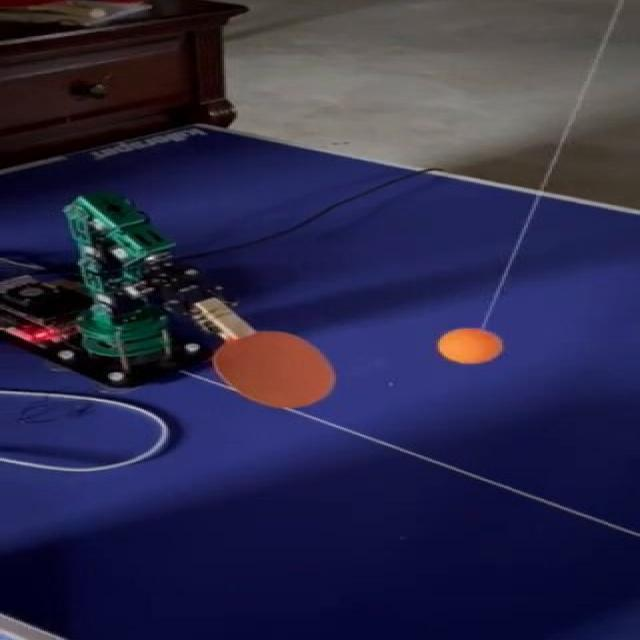ping-pong-ball: (438, 328, 510, 362)
